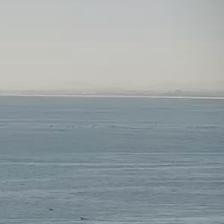surfer: (80, 216, 86, 220), (48, 209, 53, 211)
